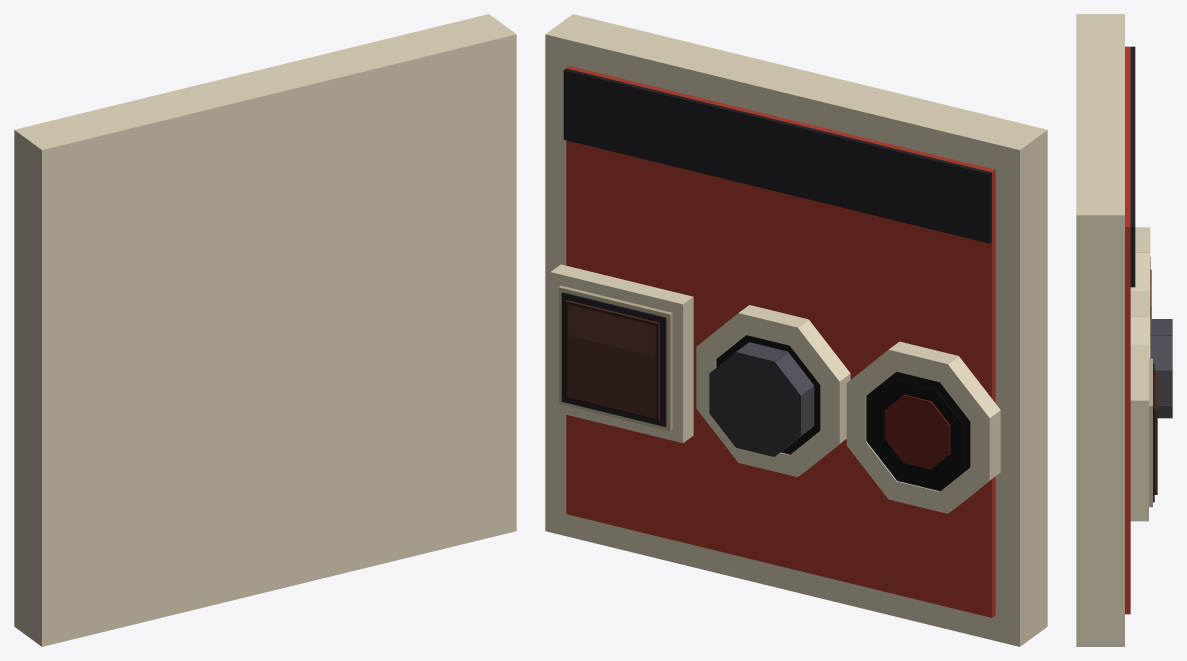
Rendered from lamp_btn_off_b.obj.
The picture shows the model from 3 angles, left to right: view 1: azimuth 30°, elevation 25°; view 2: azimuth 150°, elevation 25°; view 3: azimuth 270°, elevation 25°; orthographic projection. The views are drawn at different scales.
Visible parts, largest first — view 1: Panel; view 2: Panel, Lamp, BtnB, BtnA; view 3: Panel, Lamp, BtnA, BtnB.
Part boxes in pixels (x1=…): Panel: x1=14, y1=14, x2=516, y2=646; Panel: x1=545, y1=14, x2=1047, y2=646; Lamp: x1=550, y1=264, x2=693, y2=442; BtnB: x1=846, y1=341, x2=1000, y2=513; BtnA: x1=696, y1=305, x2=850, y2=477; Panel: x1=1076, y1=14, x2=1135, y2=646; Lamp: x1=1130, y1=344, x2=1157, y2=521; BtnA: x1=1130, y1=291, x2=1172, y2=418; BtnB: x1=1130, y1=227, x2=1151, y2=318.
Size of the model in its own units: 1 by 1 by 0.2016.
Materials: 1 (1 with a texture image).
